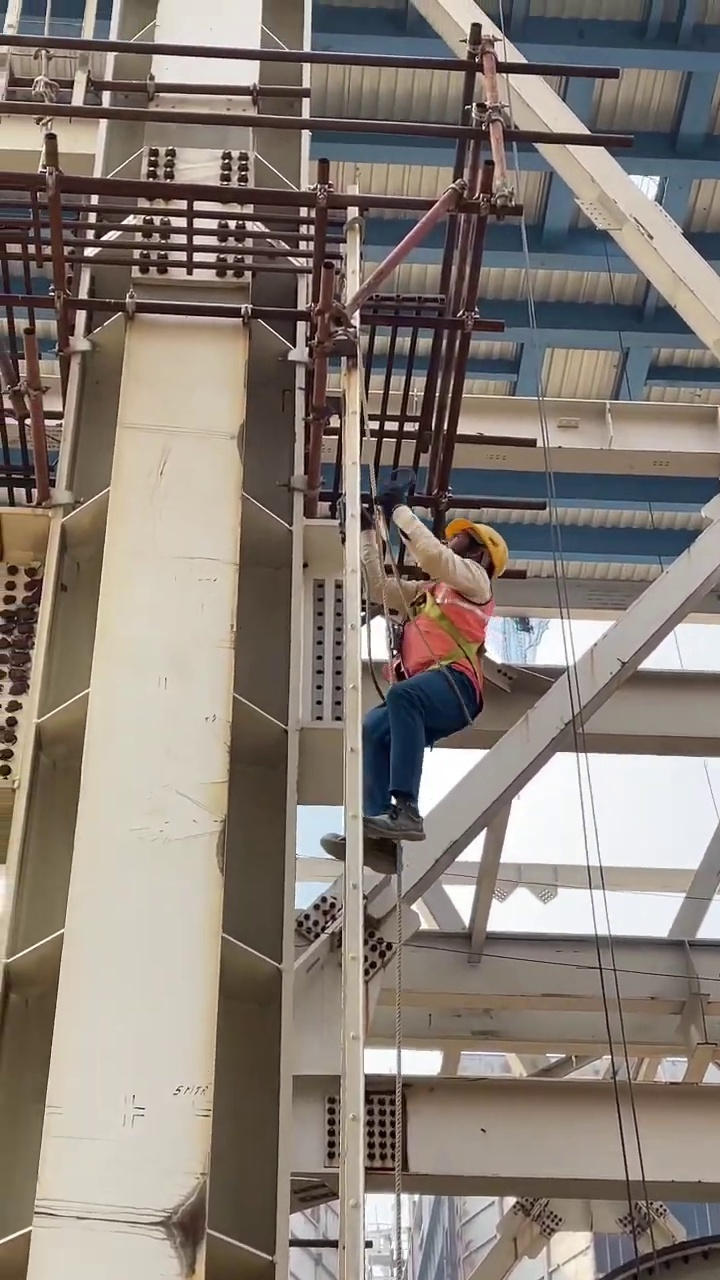Helmet: (444, 519, 510, 575)
Person: (308, 517, 510, 877)
Safety_Harness: (387, 561, 496, 728)
Safety_shoes: (320, 830, 401, 875), (363, 801, 426, 842)
